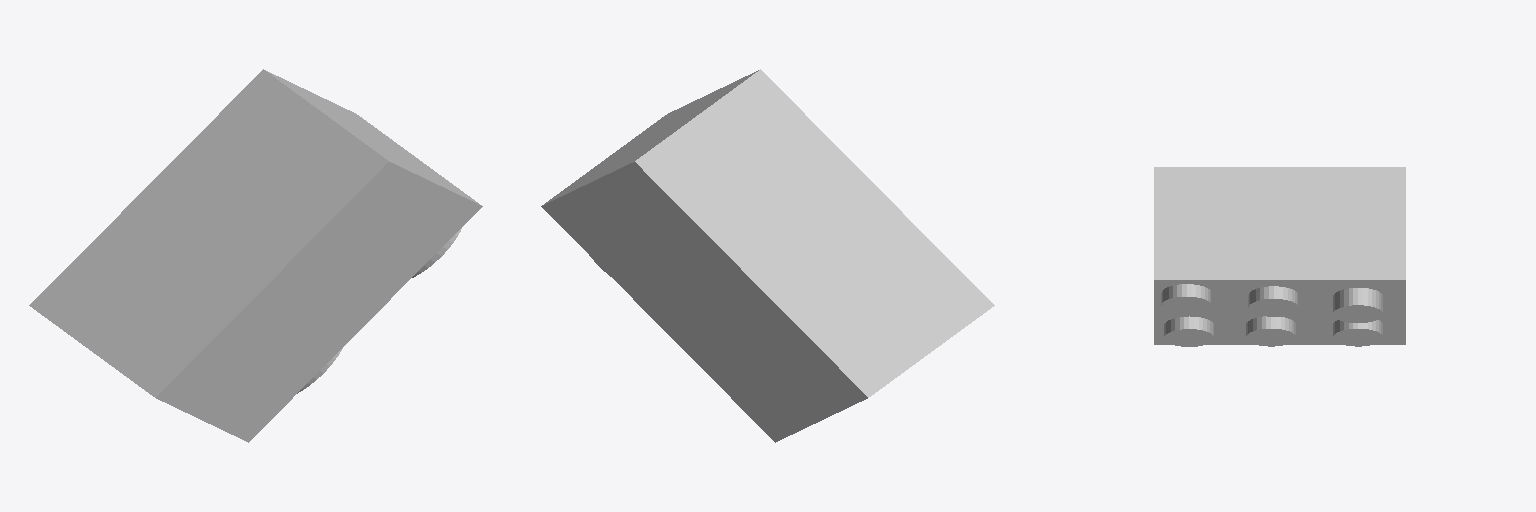
File: FarosGrandes.obj
3 views of the same model, side by side, from view 1: azimuth 30°, elevation 25°; view 2: azimuth 150°, elevation 25°; view 3: azimuth 270°, elevation 25° (orthographic).
Parts seen in each view (by area): view 1: obj_0; view 2: obj_0; view 3: obj_0.
Boxes of the visible parts, x1,y1,x2,y2 form: obj_0: [29, 69, 482, 442]; obj_0: [541, 69, 994, 442]; obj_0: [1154, 167, 1405, 346].
Bounding box in the file's own units: 15 × 10.8 × 10.